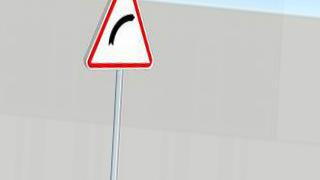right: (83, 1, 153, 70)
